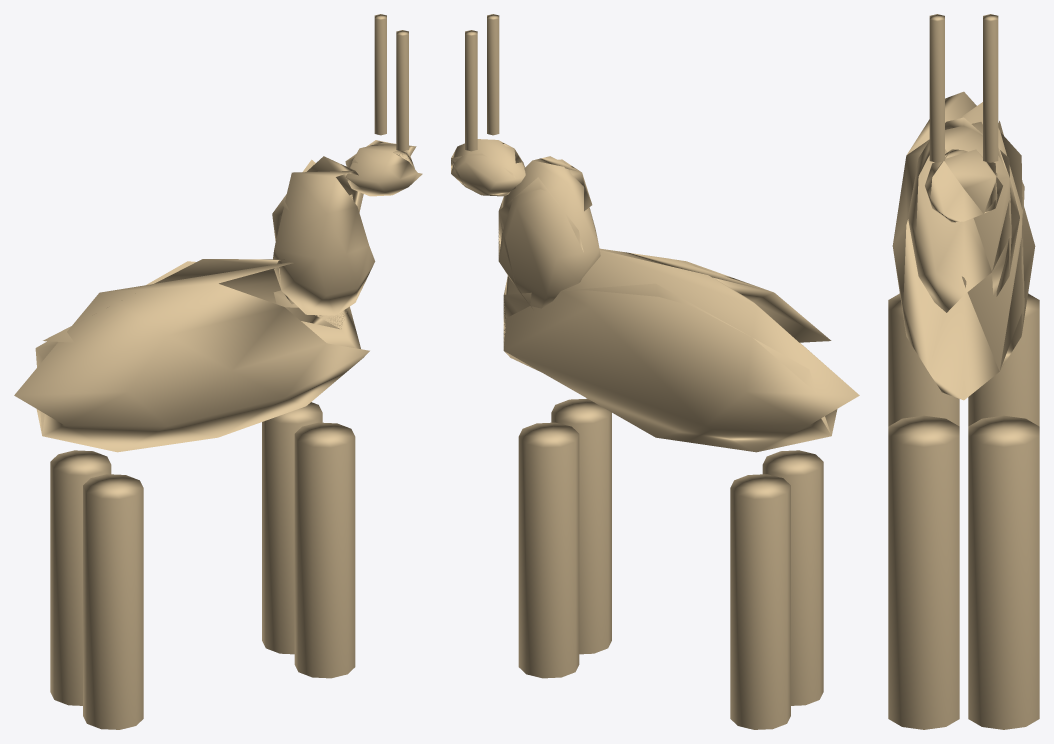
Rendered from animal-gazelle.glb.
3 views of the same model, side by side, from view 1: azimuth 30°, elevation 25°; view 2: azimuth 150°, elevation 25°; view 3: azimuth 270°, elevation 25° (orthographic). The views are drawn at different scales.
Visible parts, largest first — view 1: animal-gazelle; view 2: animal-gazelle; view 3: animal-gazelle.
Part boxes in pixels (x1,y1,x2,y2): animal-gazelle: (14,14,422,729); animal-gazelle: (451,14,859,729); animal-gazelle: (888,14,1039,729).
Size of the model in its own units: 1.28 by 1.85 by 0.339.
